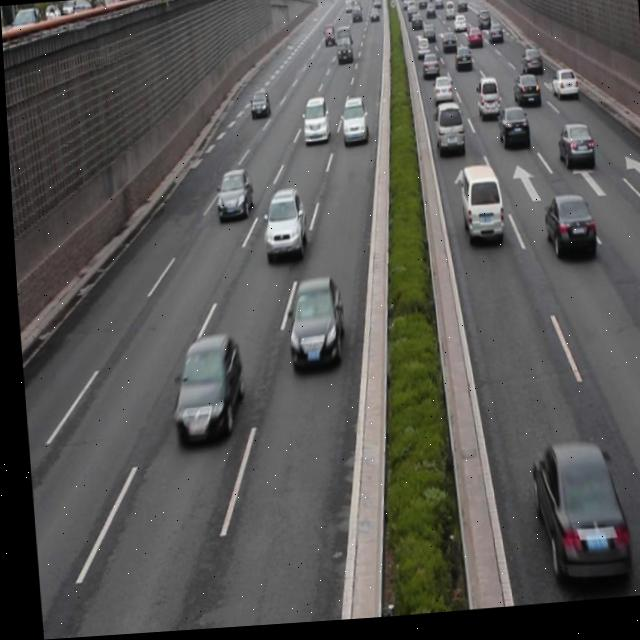car: (524, 442, 624, 593), (165, 333, 240, 450), (281, 278, 341, 376), (539, 199, 592, 270), (257, 188, 304, 265), (210, 168, 250, 225), (552, 128, 591, 178), (494, 111, 526, 158), (338, 98, 367, 149), (299, 100, 328, 147), (509, 79, 539, 116), (548, 74, 576, 107), (246, 91, 269, 123)
truck: (456, 169, 501, 249), (432, 105, 463, 161), (473, 81, 497, 124)
